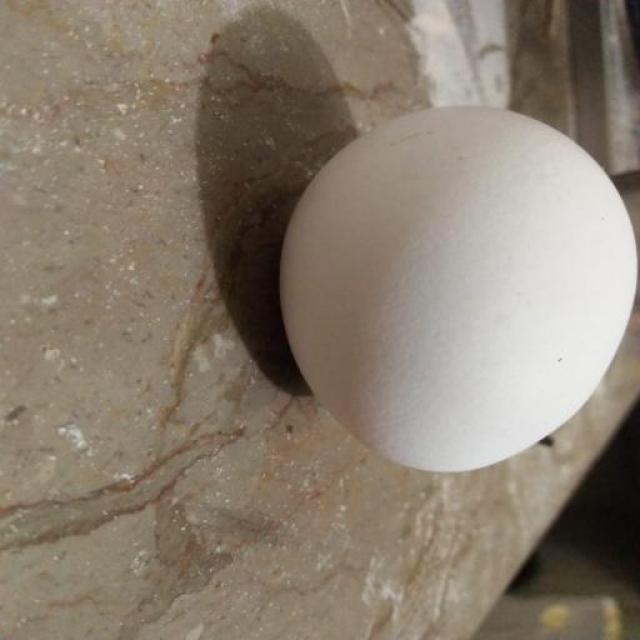telur: (277, 108, 633, 478)
